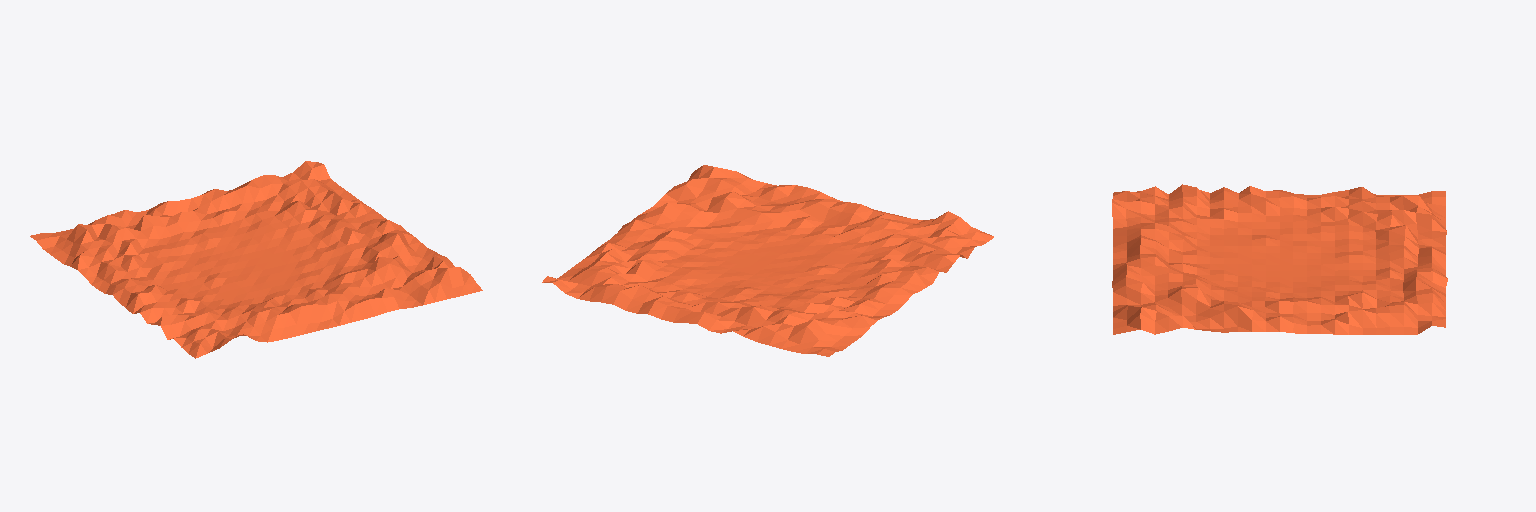
File: landscape.obj
3 renders of one model, left to right at view 1: azimuth 30°, elevation 25°; view 2: azimuth 150°, elevation 25°; view 3: azimuth 270°, elevation 25°, orthographic.
Visible parts, largest first — view 1: Plane003; view 2: Plane003; view 3: Plane003.
Boxes of the visible parts, x1,y1,x2,y2 form: Plane003: [30, 161, 482, 358]; Plane003: [542, 165, 993, 356]; Plane003: [1112, 184, 1447, 334].
Bounding box in the file's own units: 93.04 × 5.46 × 93.49.